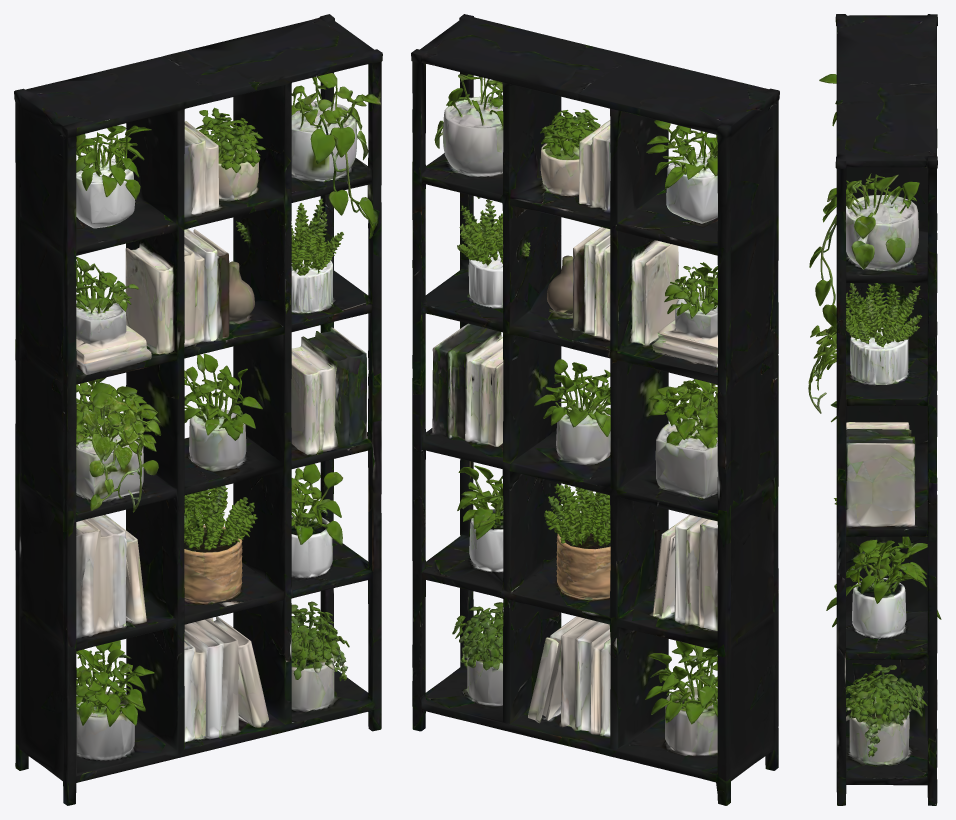
The model's file is bookshelf.glb.
3 renders of one model, left to right at view 1: azimuth 30°, elevation 25°; view 2: azimuth 150°, elevation 25°; view 3: azimuth 270°, elevation 25°, orthographic. The views are drawn at different scales.
Parts seen in each view (by area): view 1: Mesh_0; view 2: Mesh_0; view 3: Mesh_0.
Boxes of the visible parts, x1,y1,x2,y2 form: Mesh_0: [14, 14, 382, 805]; Mesh_0: [411, 14, 779, 805]; Mesh_0: [808, 14, 941, 805].
Bounding box in the file's own units: 0.00931 × 0.019 × 0.00355.
Materials: 1 (1 with a texture image).
